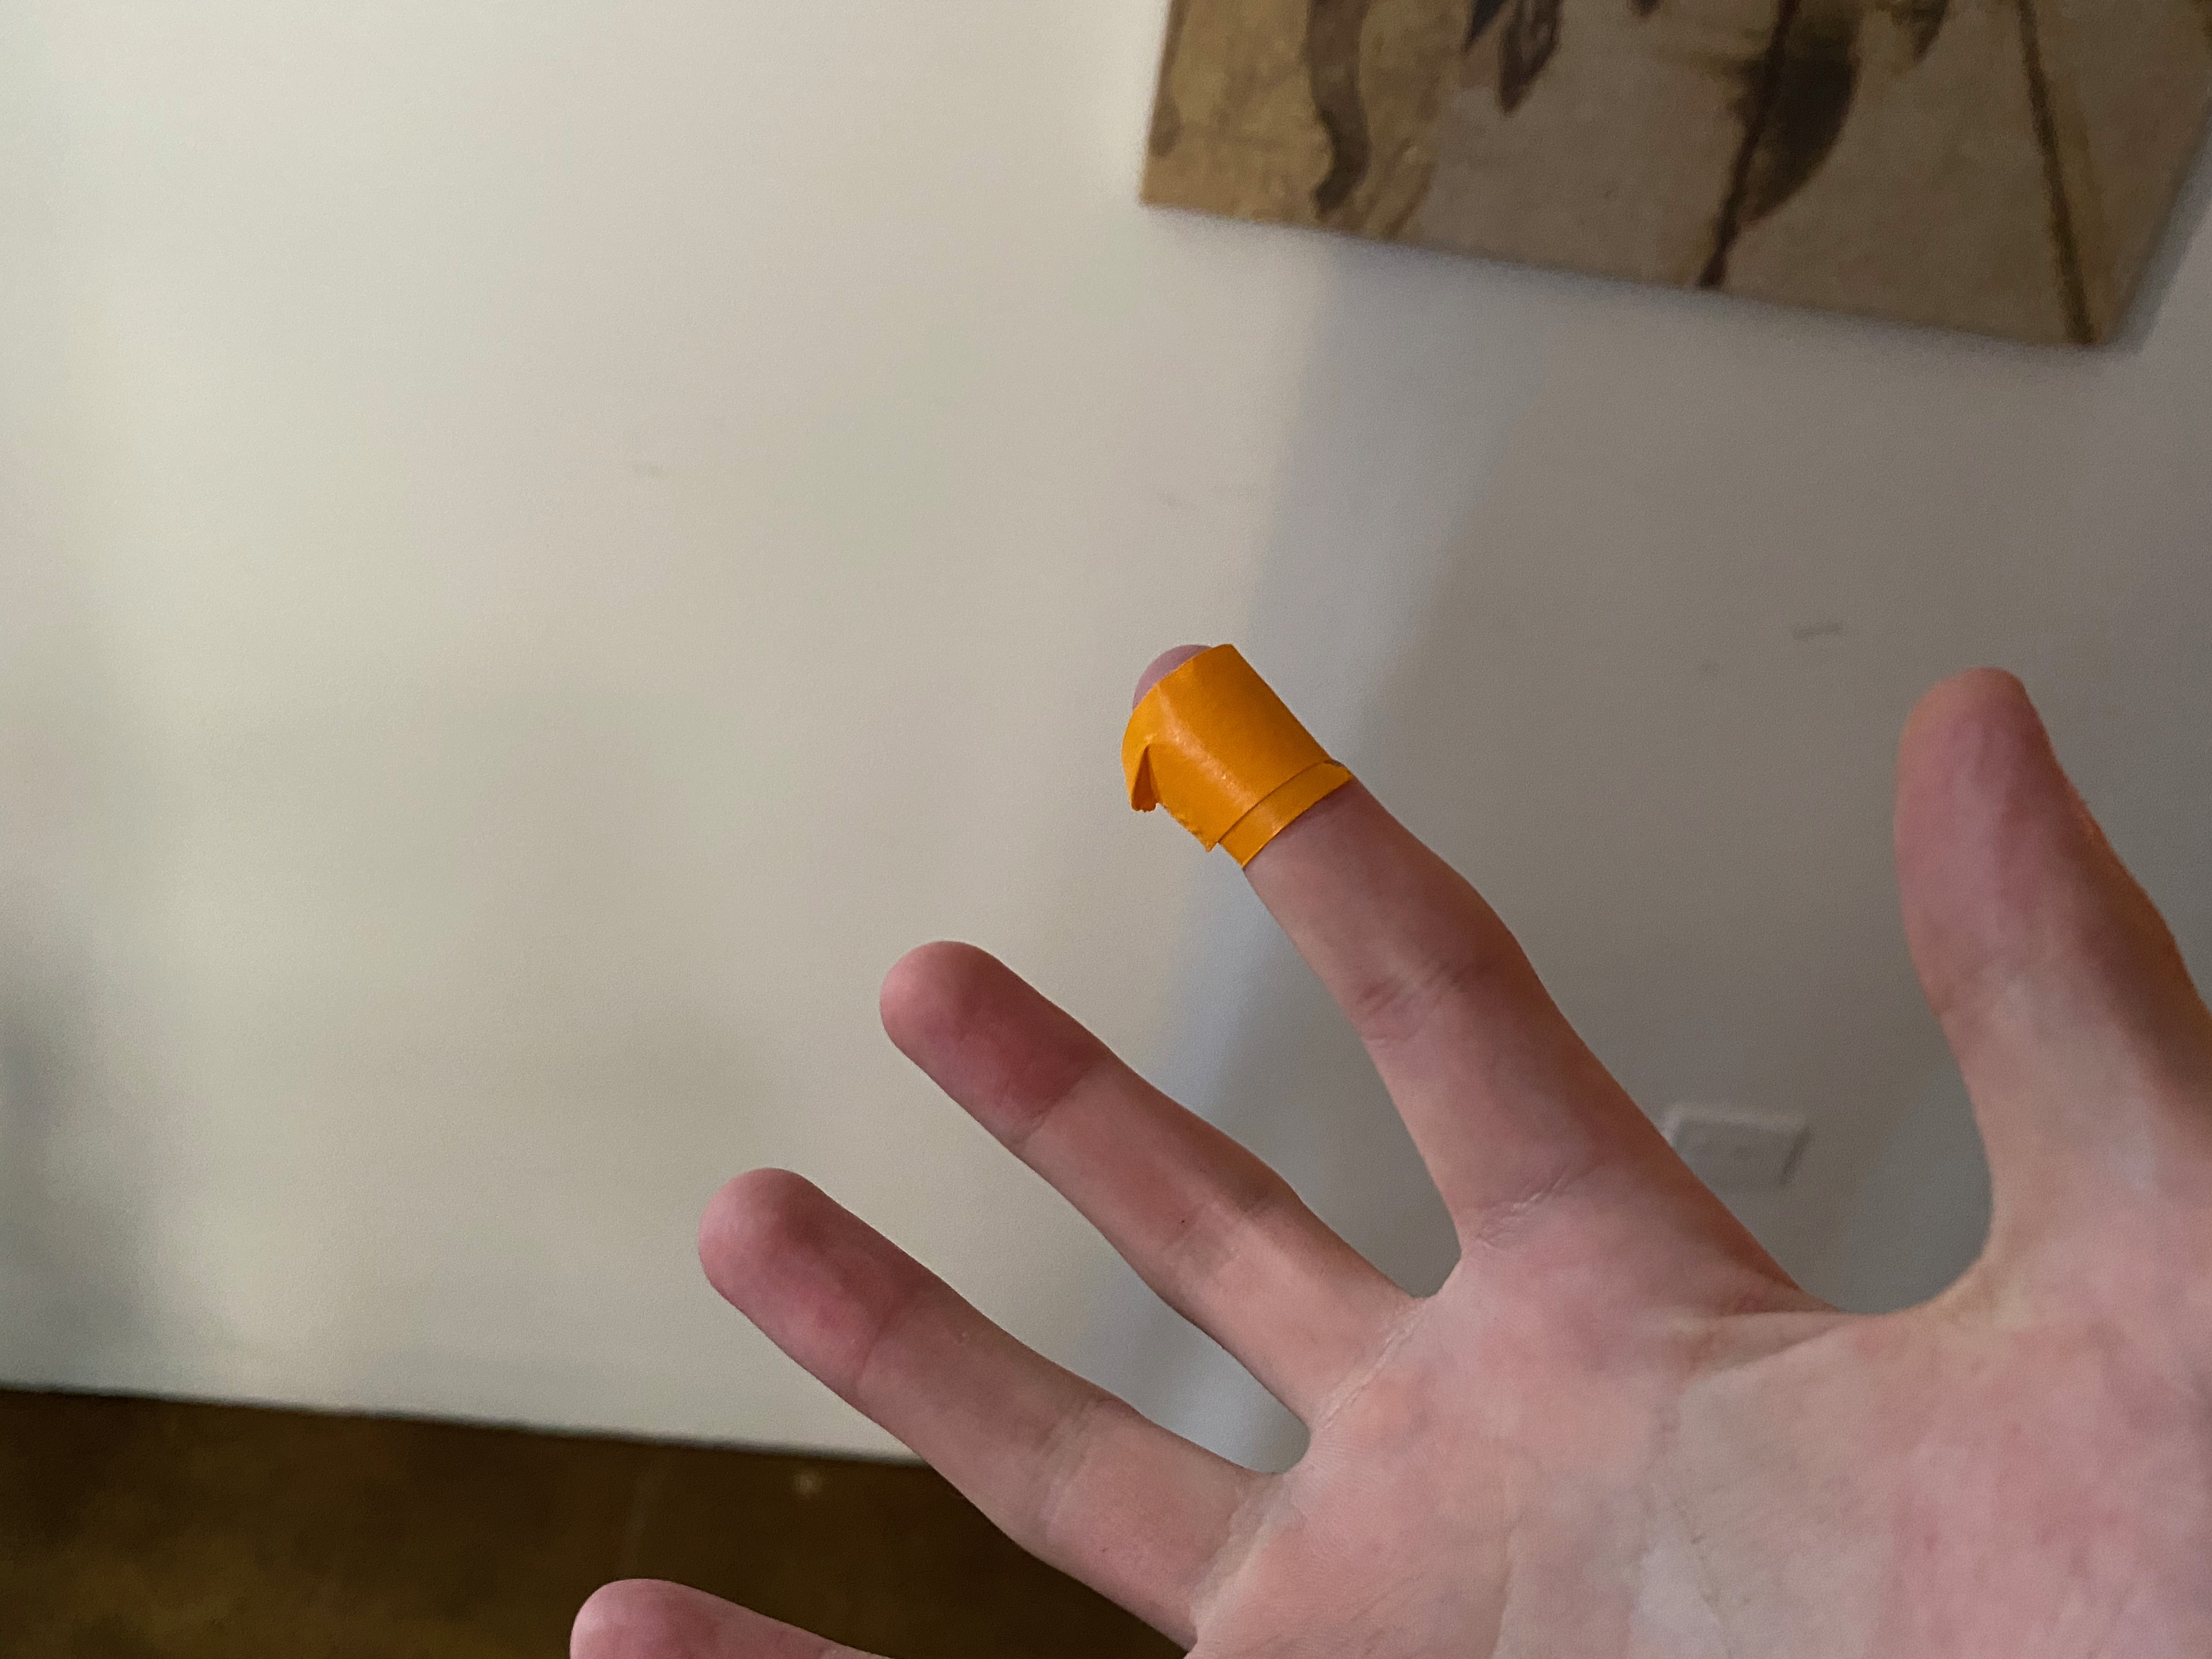fingertip: (1087, 619, 1390, 884)
